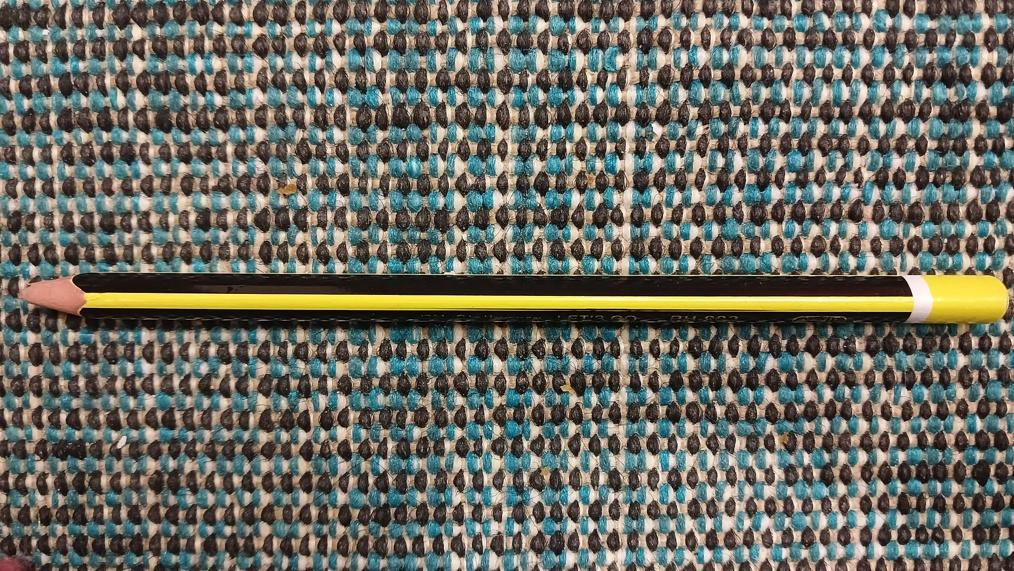Pencil: (15, 275, 1014, 329)
